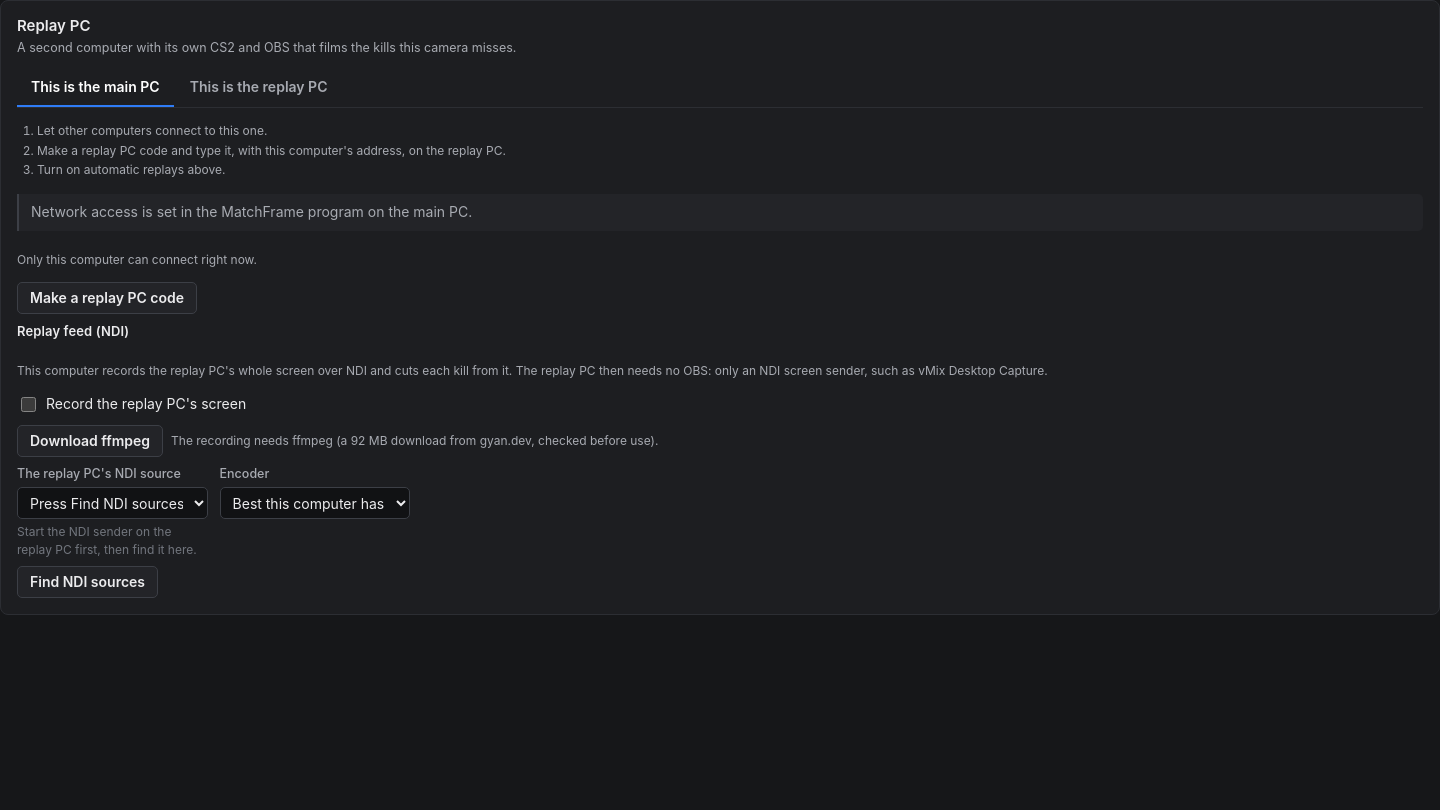
Test: Replay feed (NDI) on the main PC › offers the ffmpeg download, finds the replay PC's NDI source and records it
Expected: the button "Download ffmpeg" is shown, [17,425,163,457]
Click the button "Find NDI sources" at (88, 582), box [17,566,158,598]
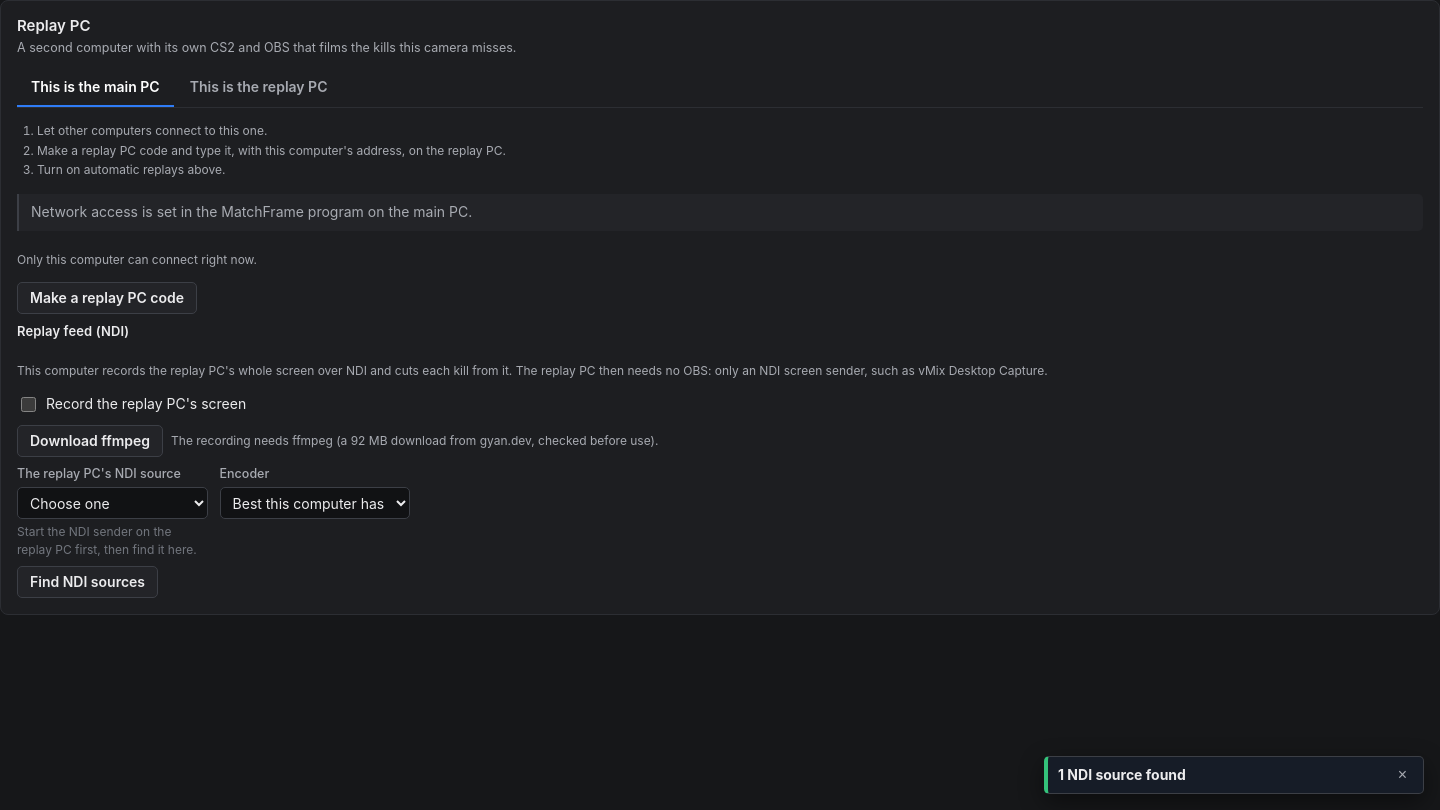
Select "REPLAY-PC (vMix Desktop Capture)" in the dropdown labelled "The replay PC's NDI source" at (112, 503), box [17,487,208,519]
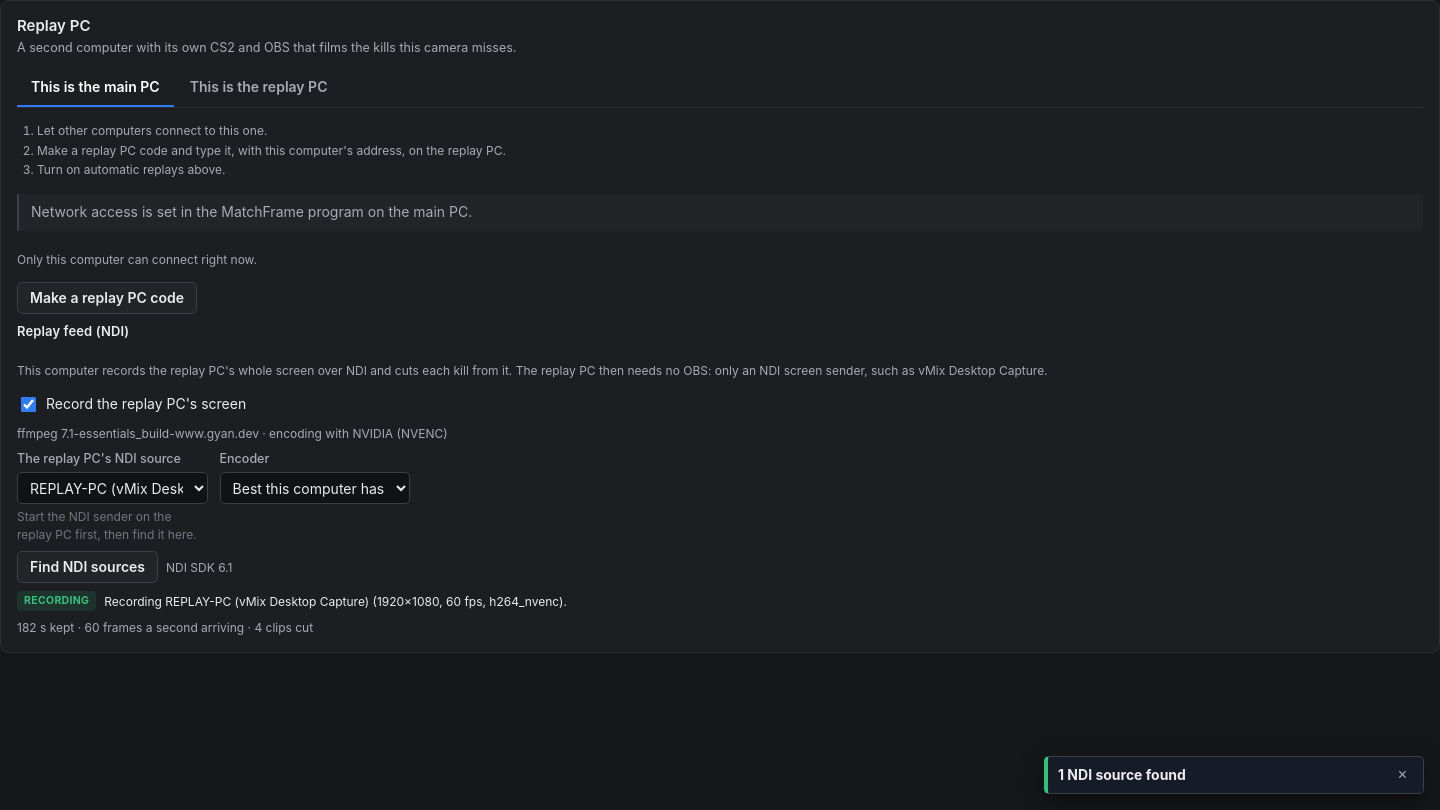
Result: the text "Recording REPLAY-PC (vMix Desktop Capture) (1920×1080" is shown at [104,594,567,608]
Result: the text "182 s kept · 60 frames a second arriving · 4 clips cut" is shown at [17,620,313,635]
Result: the text "encoding with NVIDIA (NVENC)" is shown at [17,426,448,441]
